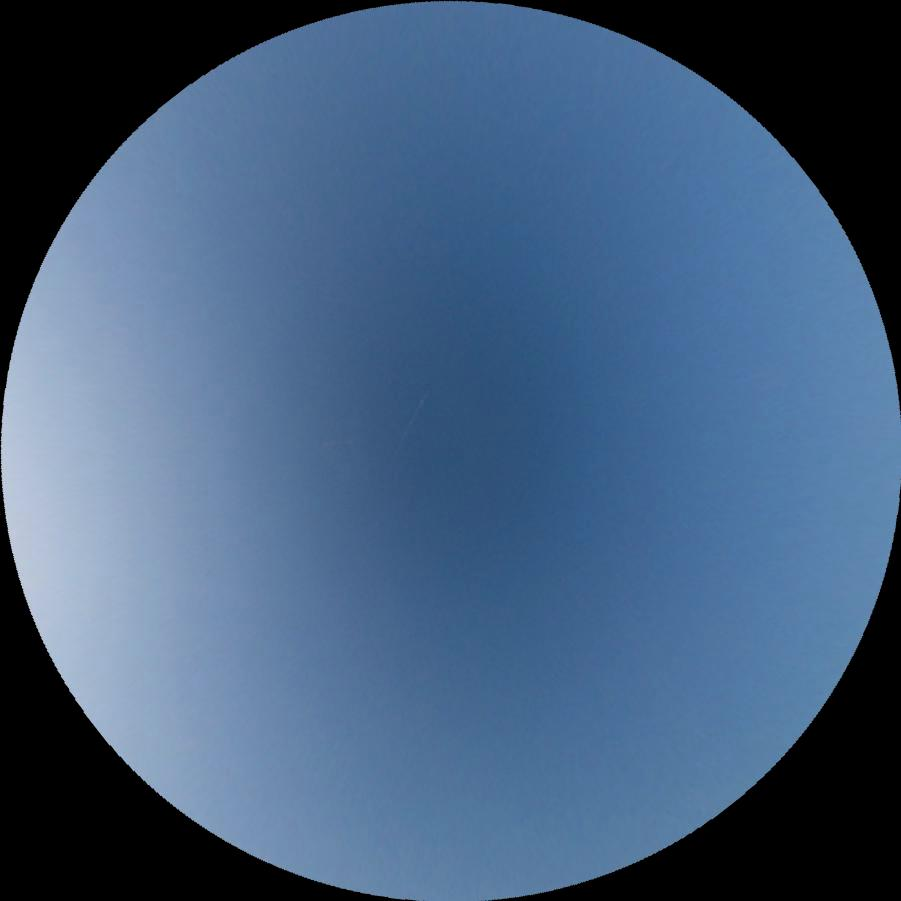contrail young: (390, 390, 427, 458)
